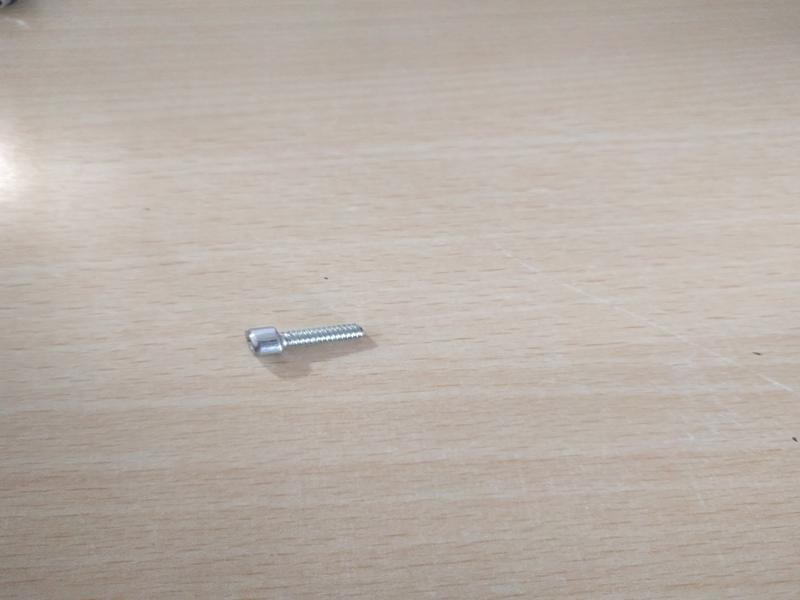smallscrew: (230, 313, 387, 371)
